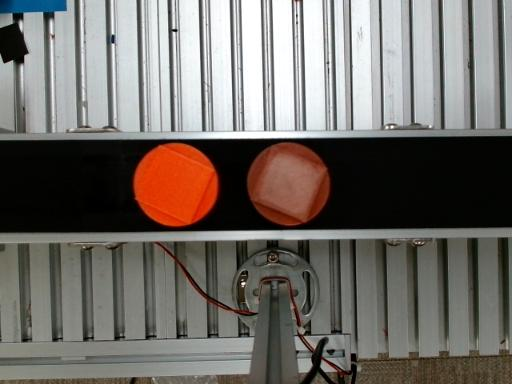Square: (135, 146, 215, 223), (250, 145, 327, 222)
